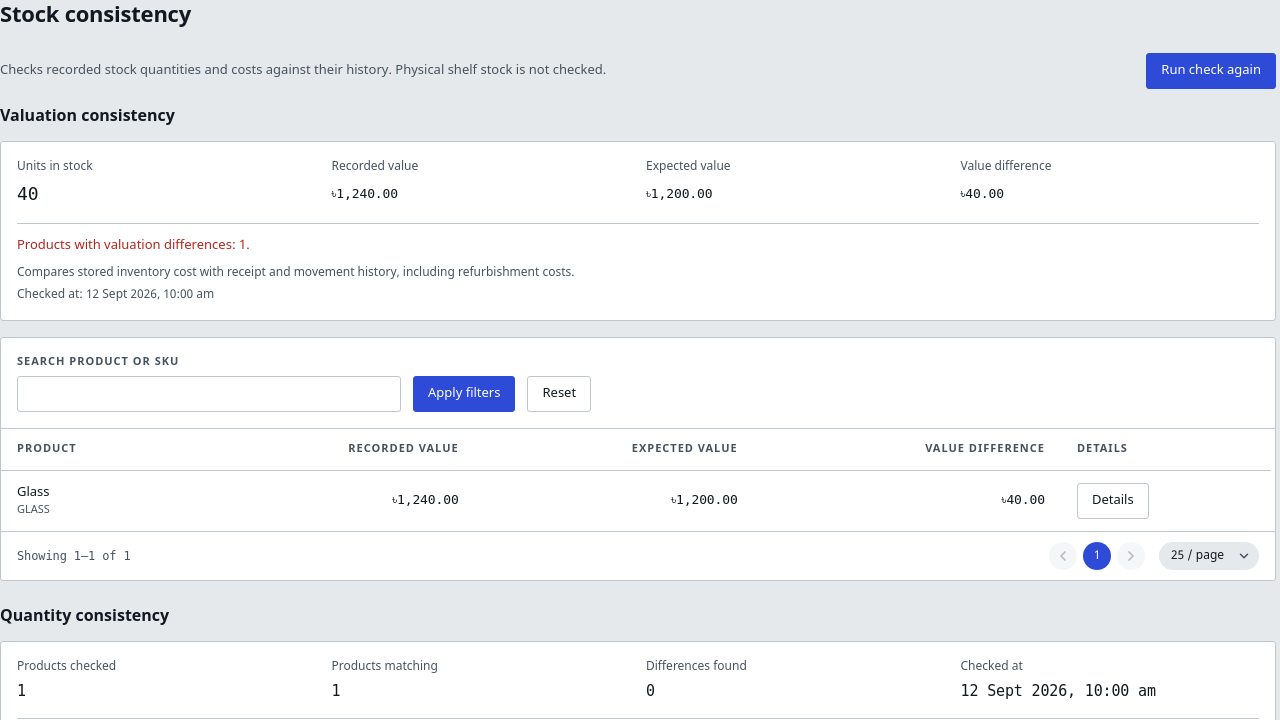
Test: keeps the previous valuation on failed reruns and replaces it only on success
Click the button "Run check again": click(1211, 71) [1146,53,1276,89]
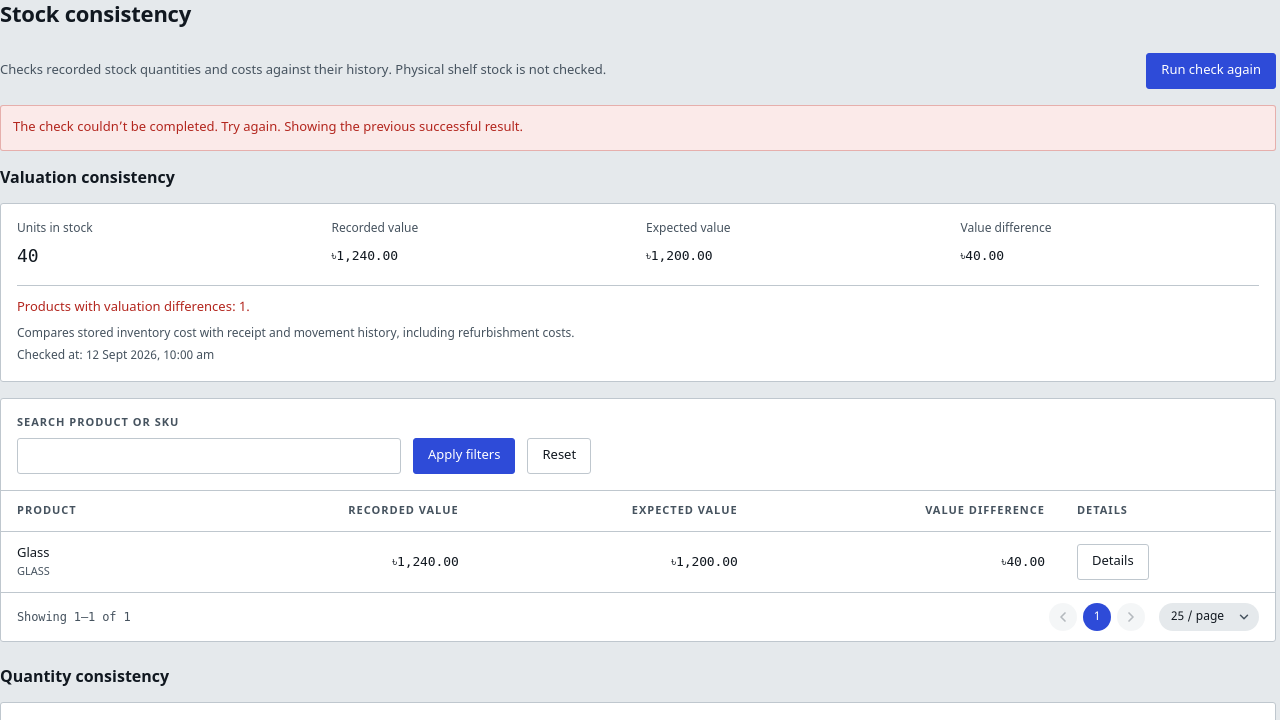
Expected: the text "1,240.00" is shown, [332,248,398,262]
Now the 1st message shows "previous successful result", box [284,119,523,136]
Click the button "Run check again": click(1211, 71) [1146,53,1276,89]
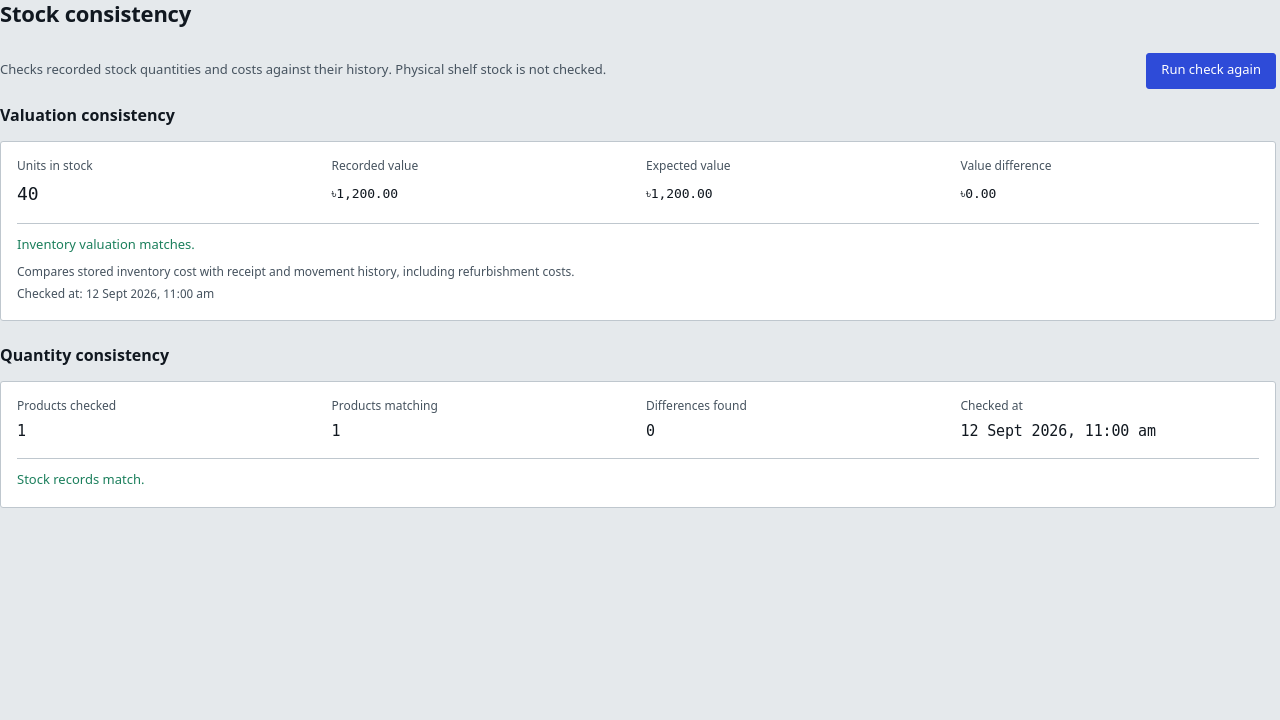
Now the text "Inventory valuation matches." is shown, box [17,237,195,254]
Now the text "1,240.00" is gone
